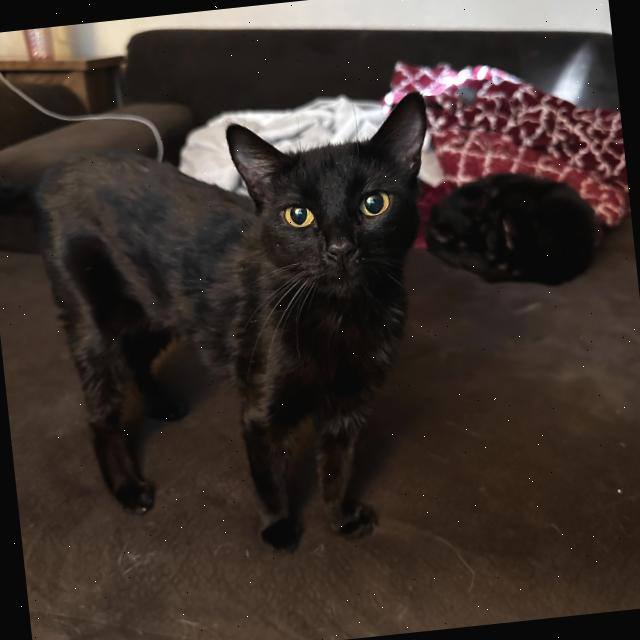bombay_cat: (219, 86, 452, 320)
